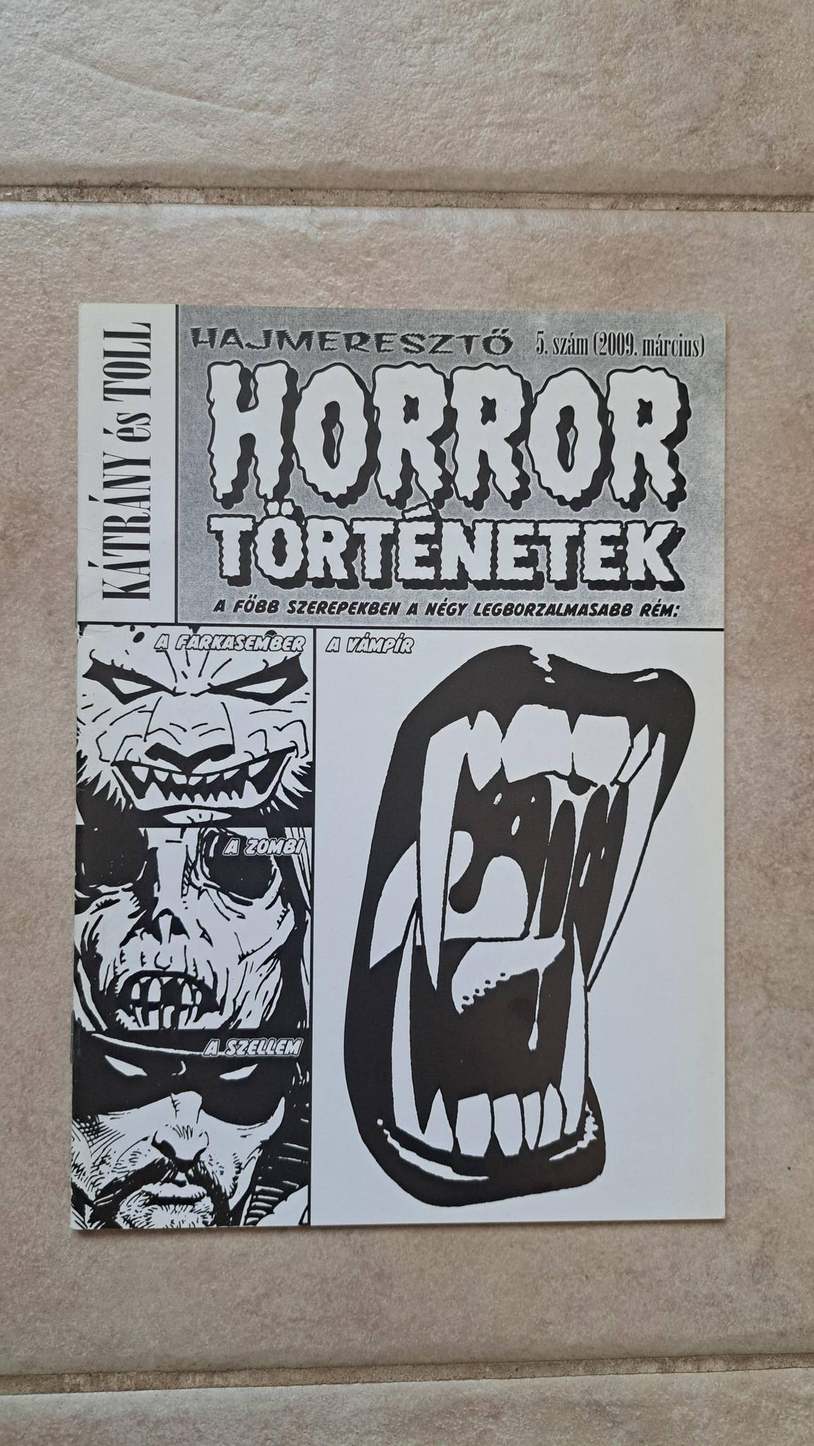comic: (73, 305, 723, 1229)
